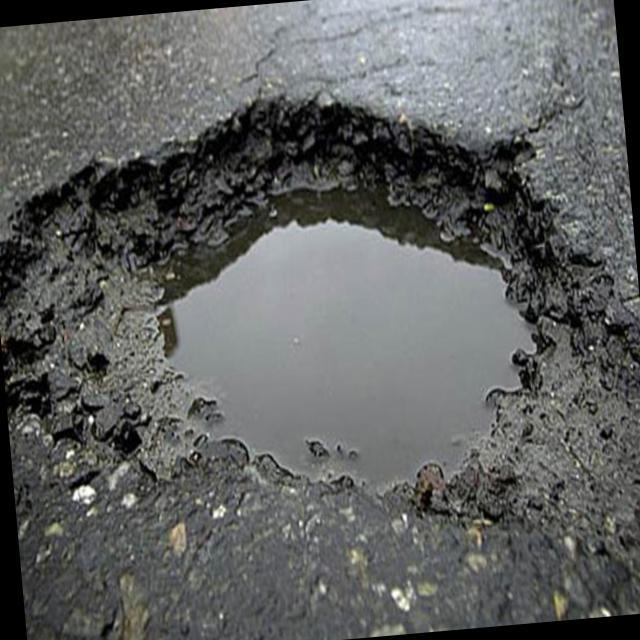Pothole: (0, 23, 640, 620)
